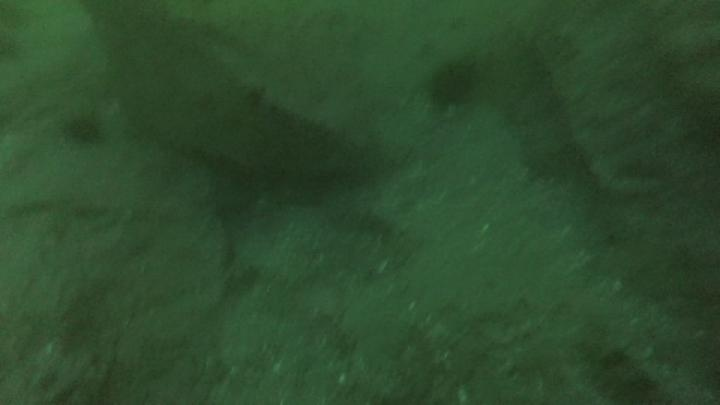echinus: (426, 57, 480, 112), (62, 110, 105, 147)
